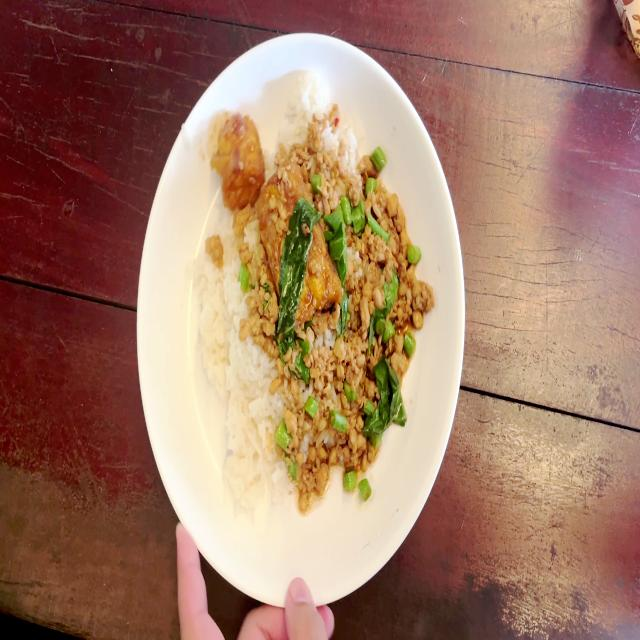fried_tofo: (262, 169, 334, 317), (214, 118, 262, 203)
minced_pork: (335, 136, 430, 474), (276, 316, 336, 488)
rice: (192, 252, 275, 492), (274, 78, 316, 135)
stir_fried_basil: (196, 76, 433, 505)
